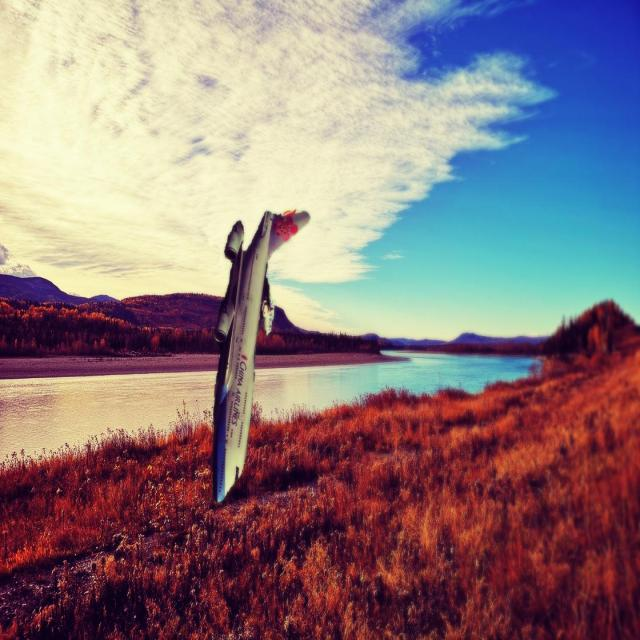airplane: (210, 207, 311, 504)
